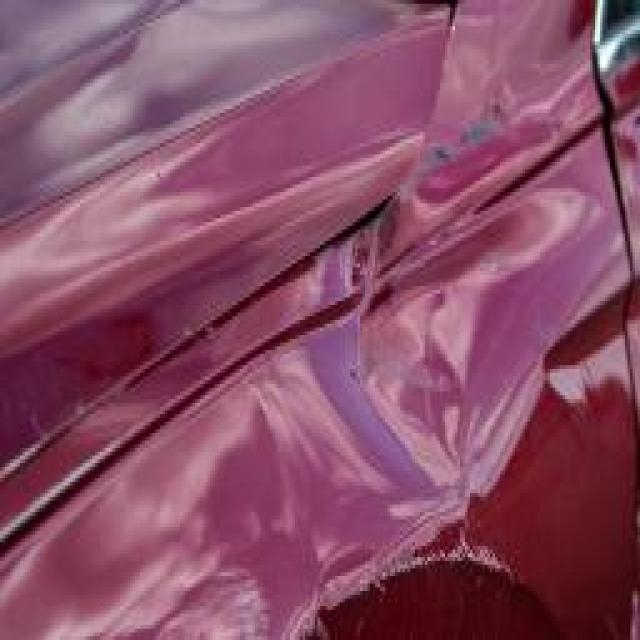Fender: (168, 218, 565, 640)
